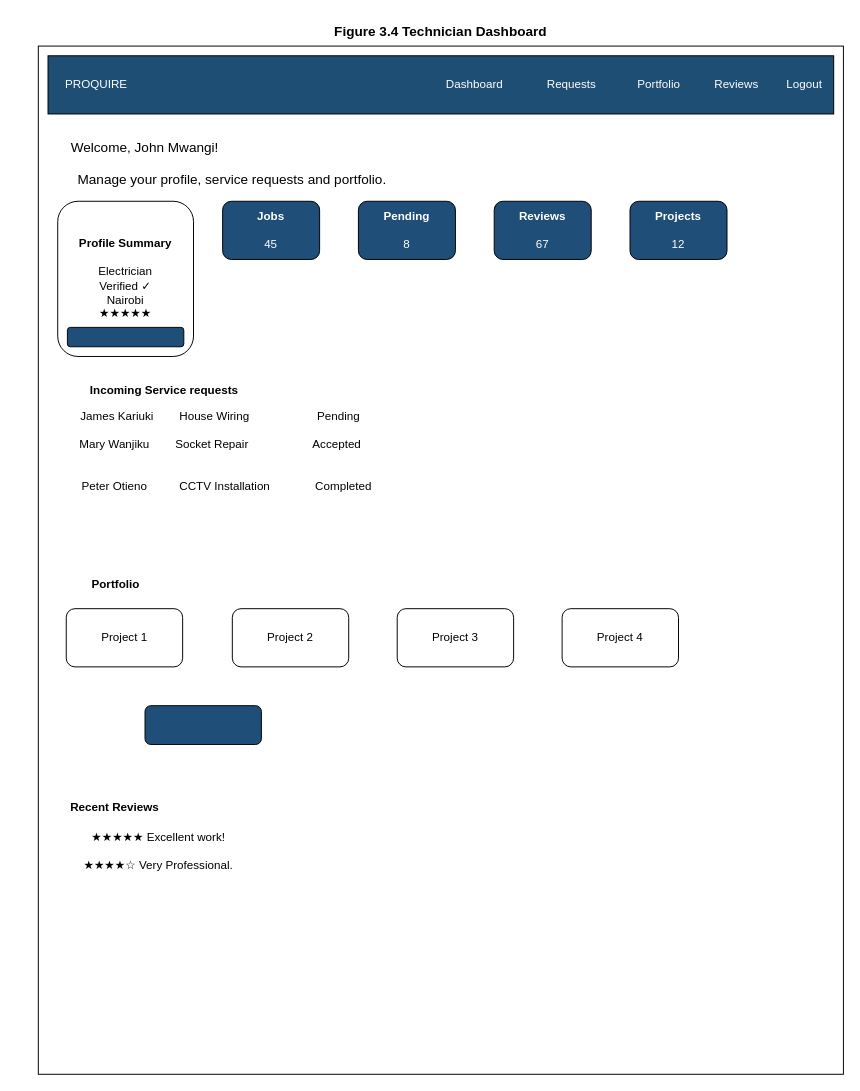
The diagram is 860 pixels wide and 1091 high, and some of its shapes have lost their labels. The centre of each missing label's shape, as x and y in pixels:
"Edit Profile" belongs at point 125,336.
"Upload new project" belongs at point 202,724.
